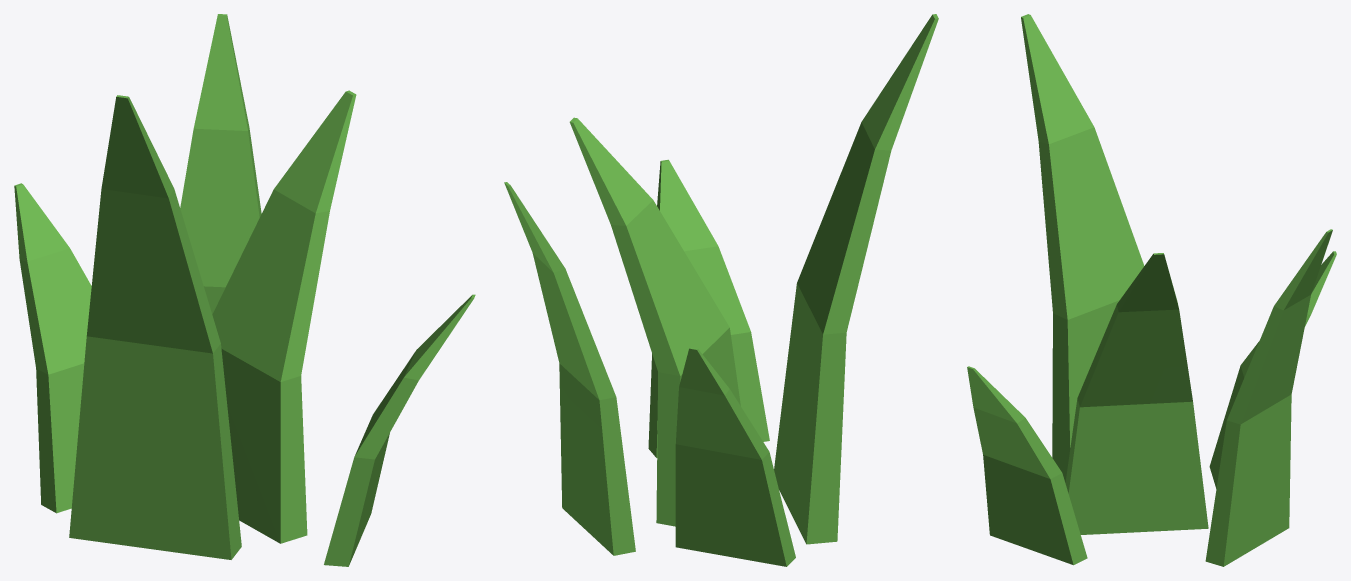
Rendered from Grass1VAR.glb.
The picture shows the model from 3 angles, left to right: view 1: azimuth 30°, elevation 25°; view 2: azimuth 150°, elevation 25°; view 3: azimuth 270°, elevation 25°; orthographic projection. The views are drawn at different scales.
Visible parts, largest first — view 1: Grass1VAR.001; view 2: Grass1VAR.001; view 3: Grass1VAR.001.
Boxes of the visible parts, x1,y1,x2,y2 form: Grass1VAR.001: (14,14,475,566); Grass1VAR.001: (504,14,938,566); Grass1VAR.001: (967,14,1336,566).
Bounding box in the file's own units: 0.1619 × 0.2387 × 0.1846.
